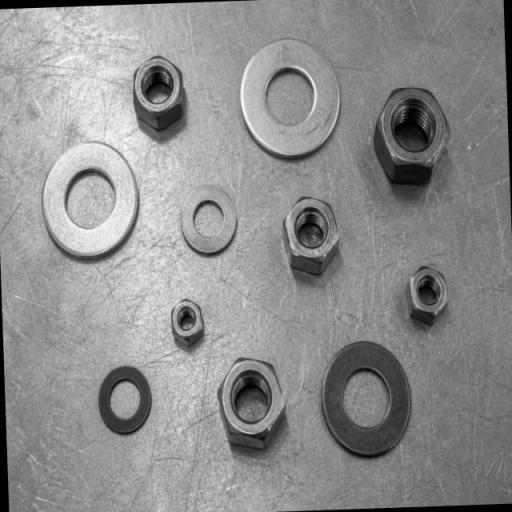Nut: (372, 86, 451, 185), (216, 355, 286, 450), (283, 195, 340, 277), (132, 55, 185, 132), (407, 265, 449, 327), (170, 298, 206, 351)
Washer: (239, 38, 341, 160), (42, 141, 139, 262), (320, 340, 413, 459), (180, 184, 238, 256), (98, 365, 153, 436)
